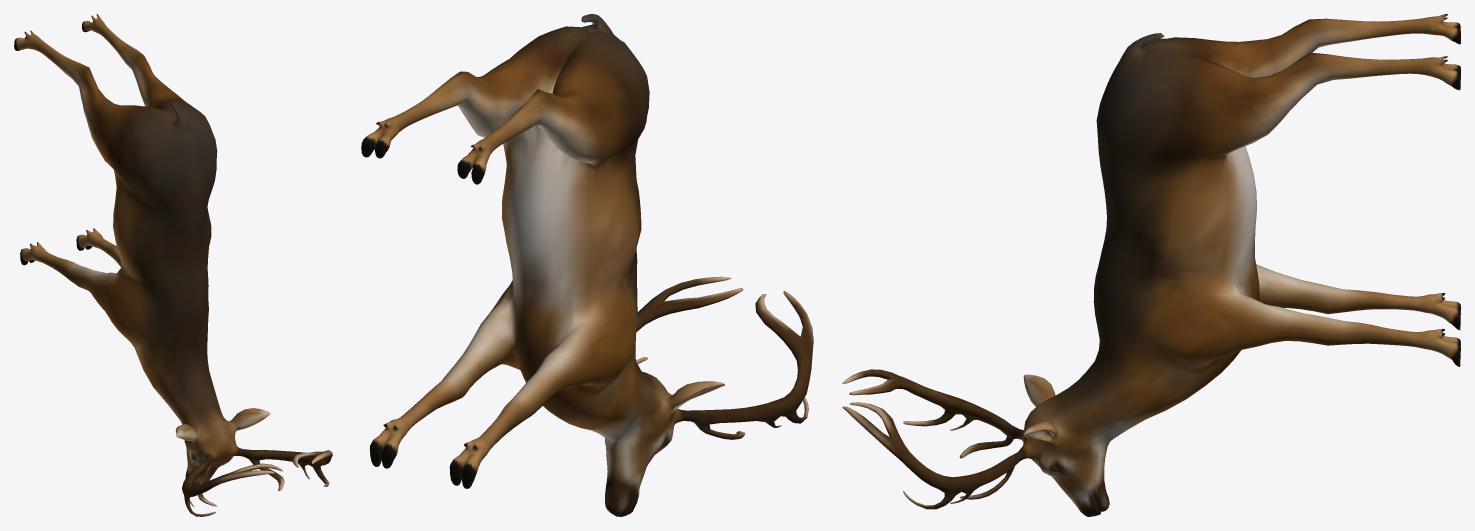
File: deer.glb
3 renders of one model, left to right at view 1: azimuth 30°, elevation 25°; view 2: azimuth 150°, elevation 25°; view 3: azimuth 270°, elevation 25°, orthographic. The views are drawn at different scales.
Parts seen in each view (by area): view 1: retopology_deer; view 2: retopology_deer; view 3: retopology_deer.
Part boxes in pixels (bbox=[...]): retopology_deer: bbox=[14, 14, 332, 516]; retopology_deer: bbox=[361, 14, 813, 516]; retopology_deer: bbox=[842, 14, 1460, 516].
Size of the model in its own units: 0.7578 by 1.93 by 2.24.
1 material, 1 textured.
